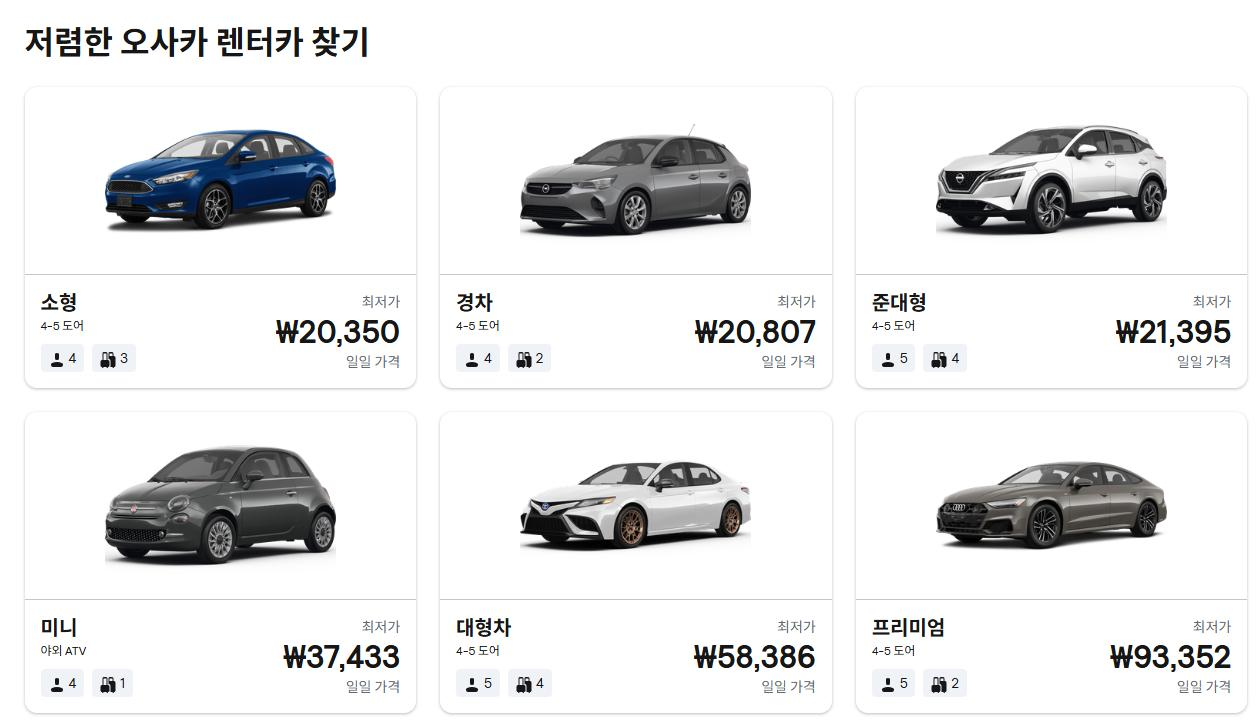button: (851, 84, 1248, 392), (856, 406, 1253, 714), (24, 411, 418, 720), (27, 82, 421, 391), (439, 83, 833, 388), (437, 407, 831, 712), (456, 664, 501, 697), (40, 340, 84, 372), (870, 666, 915, 696), (511, 340, 554, 371), (923, 667, 967, 696), (90, 667, 135, 694), (509, 669, 555, 695), (927, 339, 964, 370), (93, 344, 135, 371), (454, 345, 501, 369), (43, 666, 81, 693), (875, 347, 916, 371)
